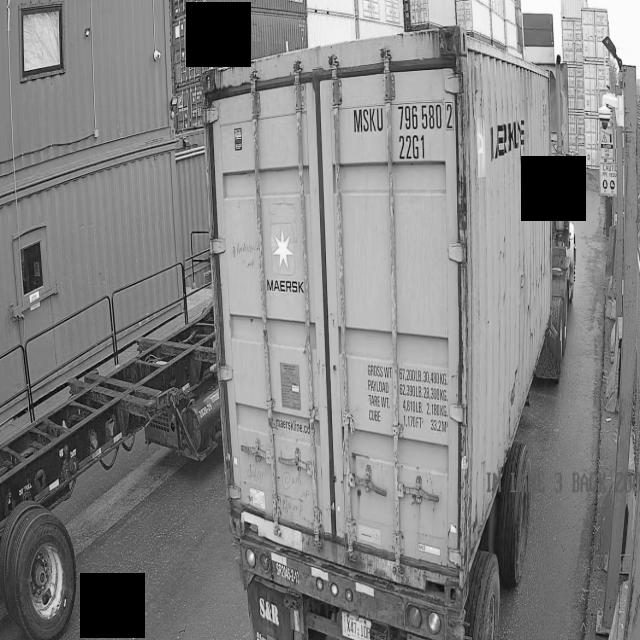container_company_logo: (265, 219, 304, 297)
container_number: (349, 95, 452, 161)
license_plate: (343, 612, 373, 640)
other_container_info: (370, 349, 460, 428)
truck_trailer: (0, 294, 231, 640)
truck_with_container: (216, 28, 581, 640)
